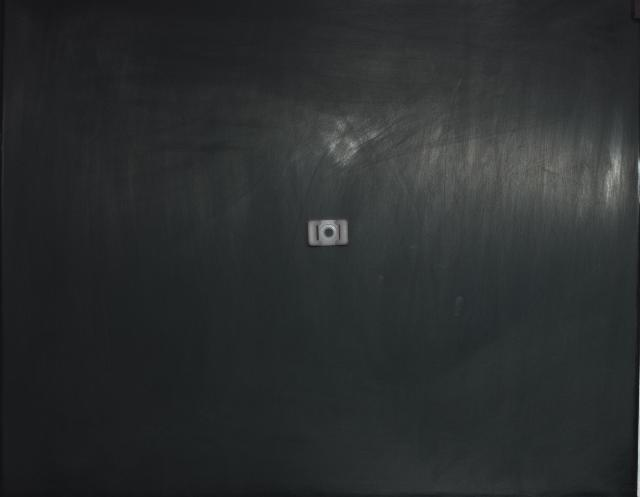first_side: (308, 220, 349, 246)
